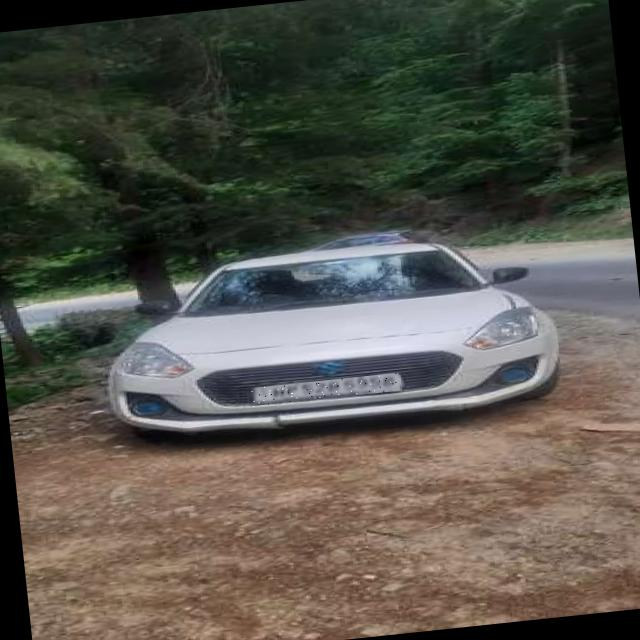Plate: (249, 373, 401, 407)
